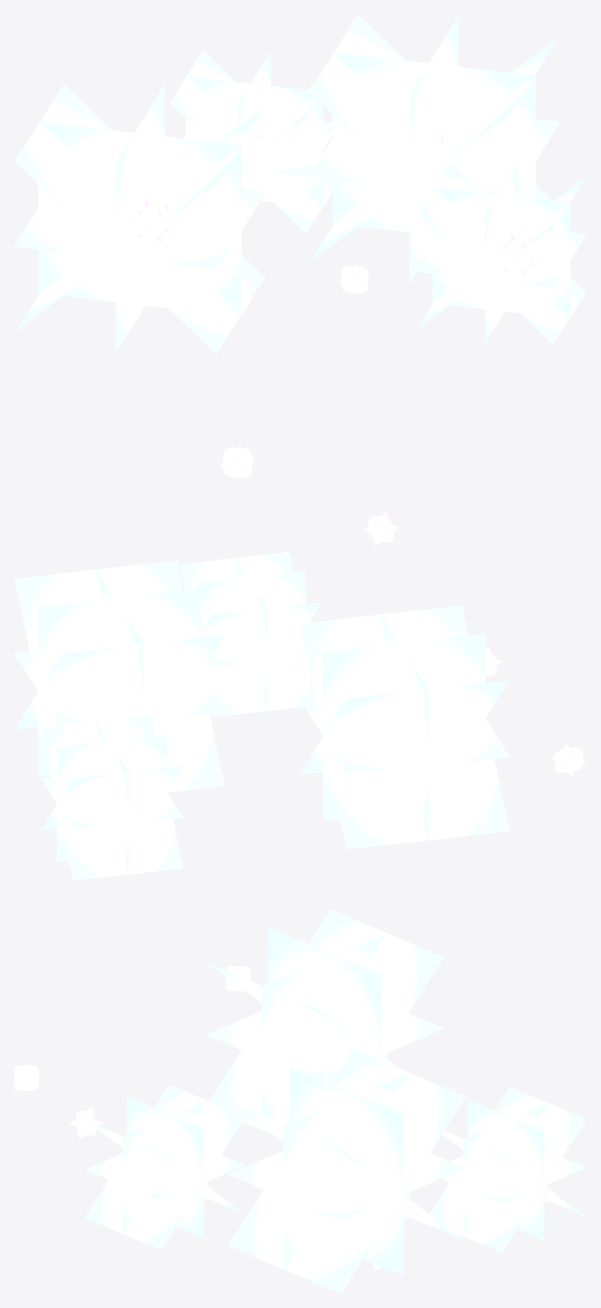
The model's file is n_SWWtree_e.glb.
3 renders of one model, top to bottom at view 1: azimuth 30°, elevation 25°; view 2: azimuth 150°, elevation 25°; view 3: azimuth 270°, elevation 25°, orthographic. The views are drawn at different scales.
Parts seen in each view (by area): view 1: n_SWWtree_e; view 2: n_SWWtree_e; view 3: n_SWWtree_e.
Part boxes in pixels (bbox=[...]): n_SWWtree_e: bbox=[14, 14, 586, 481]; n_SWWtree_e: bbox=[14, 511, 586, 880]; n_SWWtree_e: bbox=[14, 909, 586, 1293].
Size of the model in its own units: 11.94 by 5.24 by 12.69.
2 materials, 2 textured.
